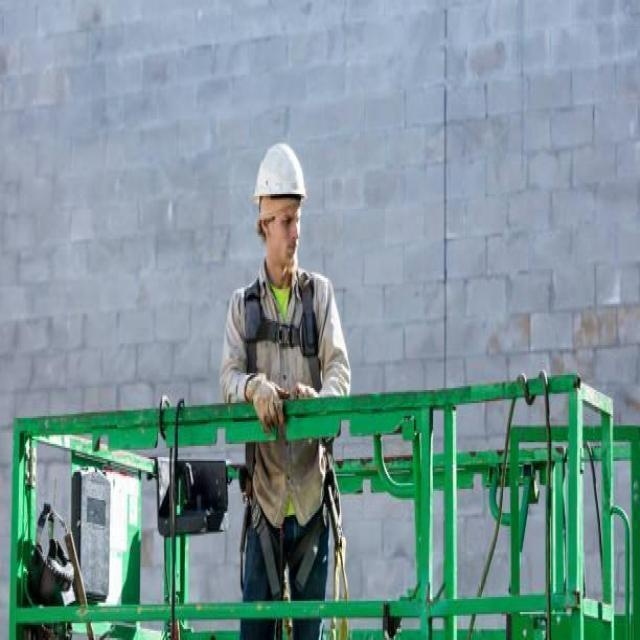Arnes_seguridad: (226, 273, 345, 589)
